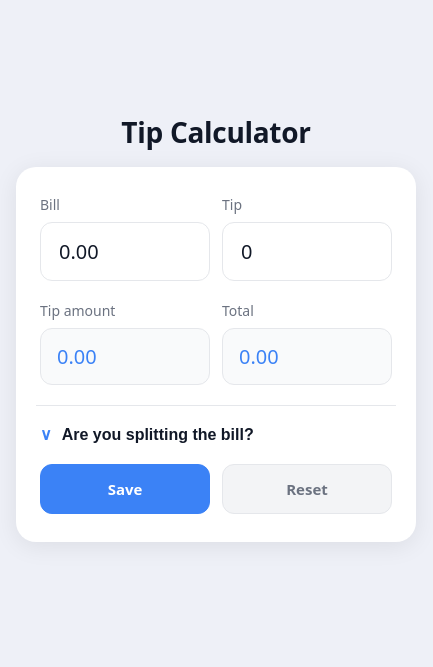
Test case: App – split section toggle › clicking toggle shows Number of people input
This screenshot has width=433, height=667.
Click the text "Are you splitting the bill?" at (158,434), box [62, 426, 254, 444]
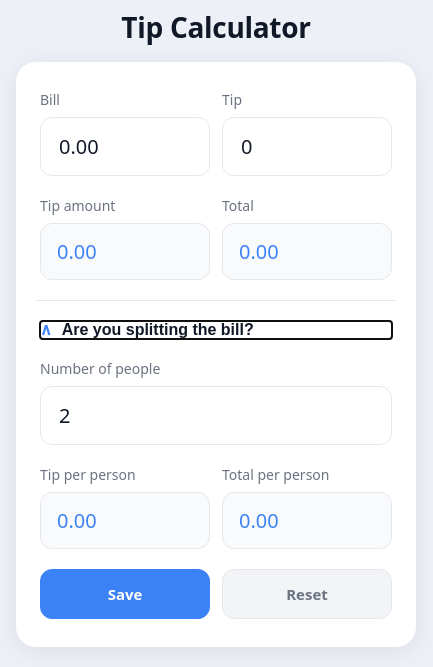
Expected: the number field labelled "Number of people" is shown, [57, 400, 375, 430]
